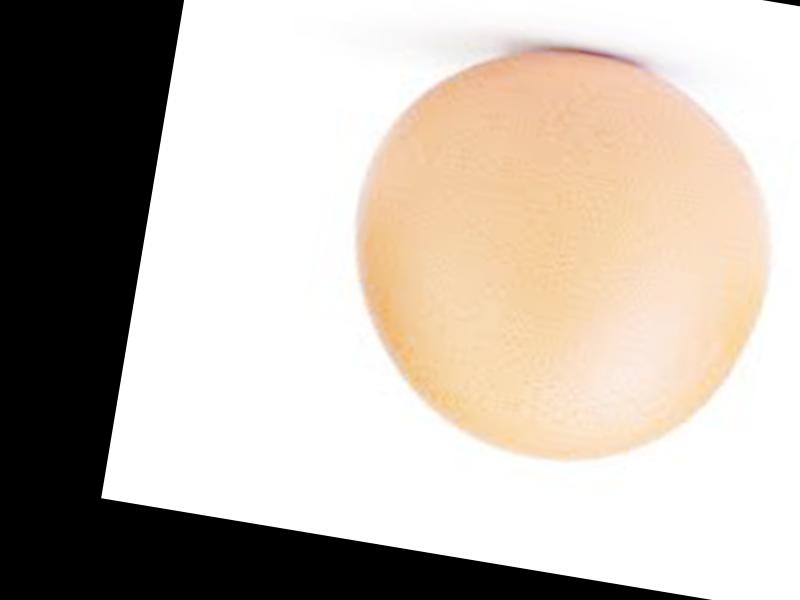Eggs: (325, 23, 797, 484)
